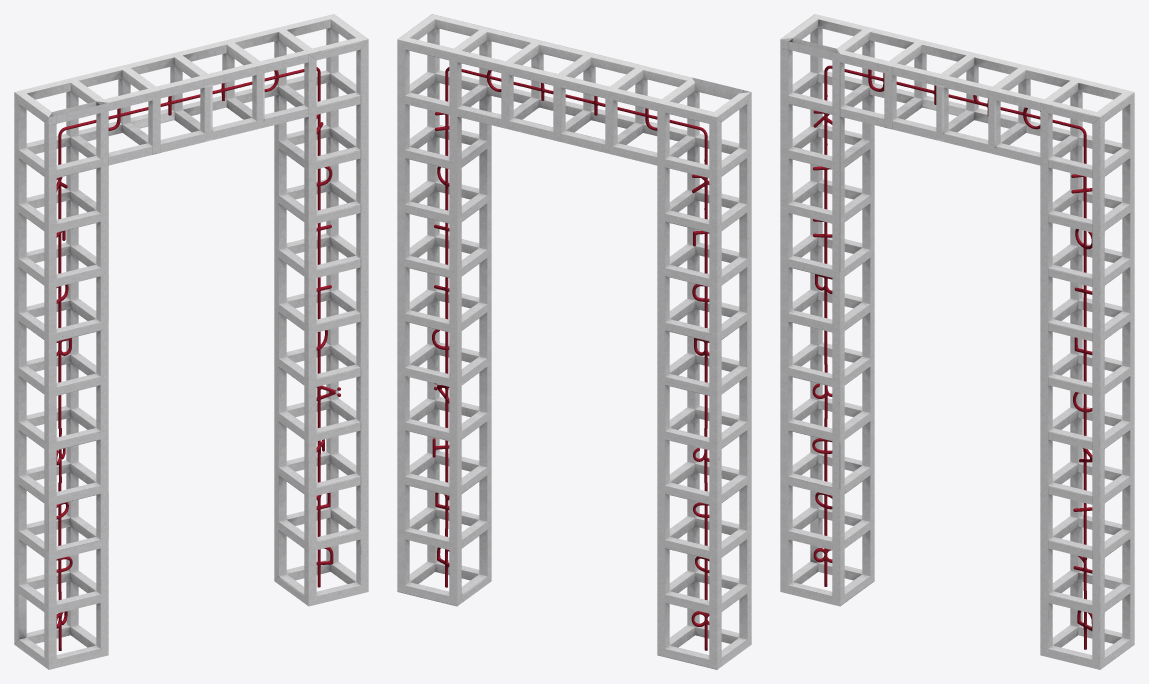
The model's file is MML_OepfuKlub3008_2100_1.glb.
3 views of the same model, side by side, from view 1: azimuth 30°, elevation 25°; view 2: azimuth 150°, elevation 25°; view 3: azimuth 330°, elevation 25° (orthographic).
Parts seen in each view (by area): view 1: nurdastor.001, buchstaben.001; view 2: nurdastor.001, buchstaben.001; view 3: nurdastor.001, buchstaben.001.
Boxes of the visible parts, x1=… form: nurdastor.001: x1=14, y1=14, x2=368, y2=669; buchstaben.001: x1=56, y1=67, x2=340, y2=650; nurdastor.001: x1=397, y1=14, x2=751, y2=669; buchstaben.001: x1=432, y1=67, x2=709, y2=650; nurdastor.001: x1=780, y1=14, x2=1134, y2=669; buchstaben.001: x1=812, y1=65, x2=1092, y2=649.
Size of the model in its own units: 2.4 by 3.96 by 0.45.
2 materials, 1 textured.
